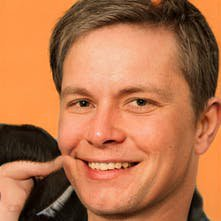noMask: (39, 1, 221, 216)
